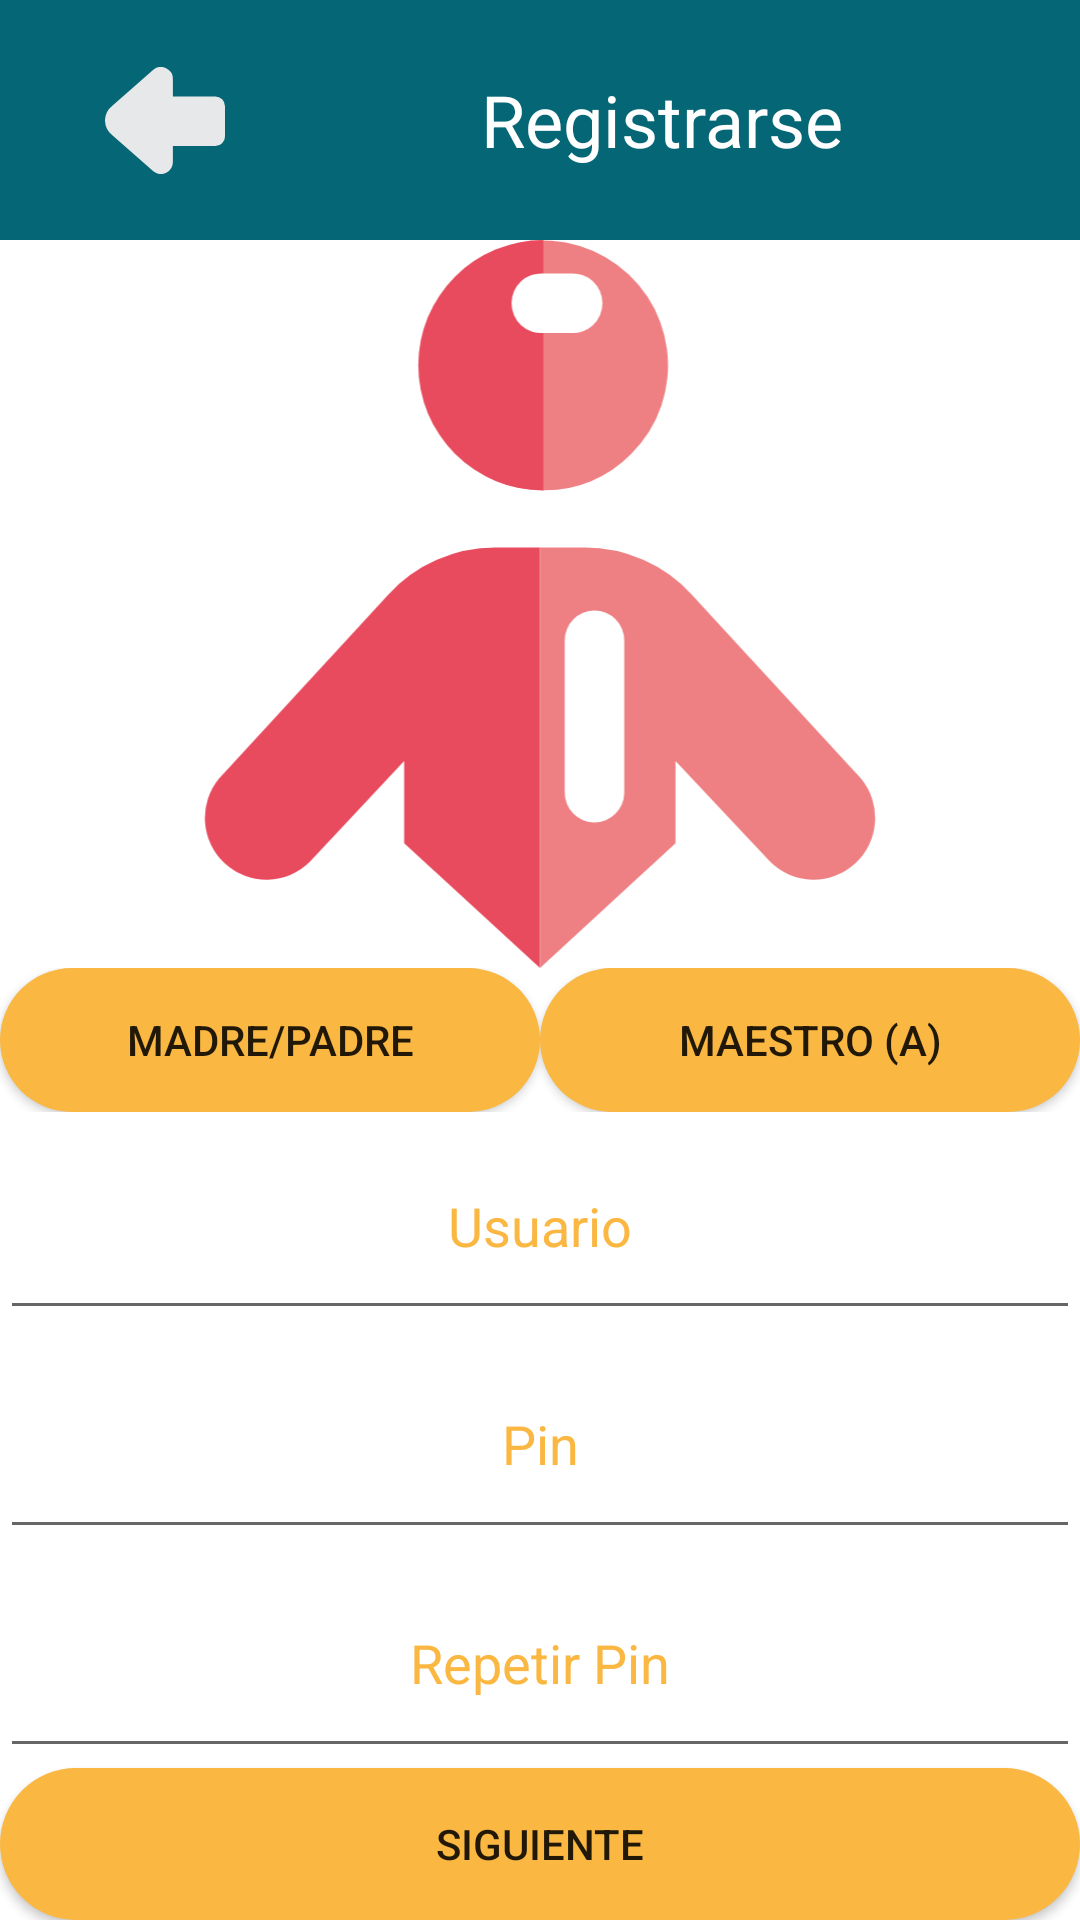

Point at icon controls on the screen. Image size 1080px×1920px, points as (x=x, y=y).
flechaatras: (x=165, y=120)
